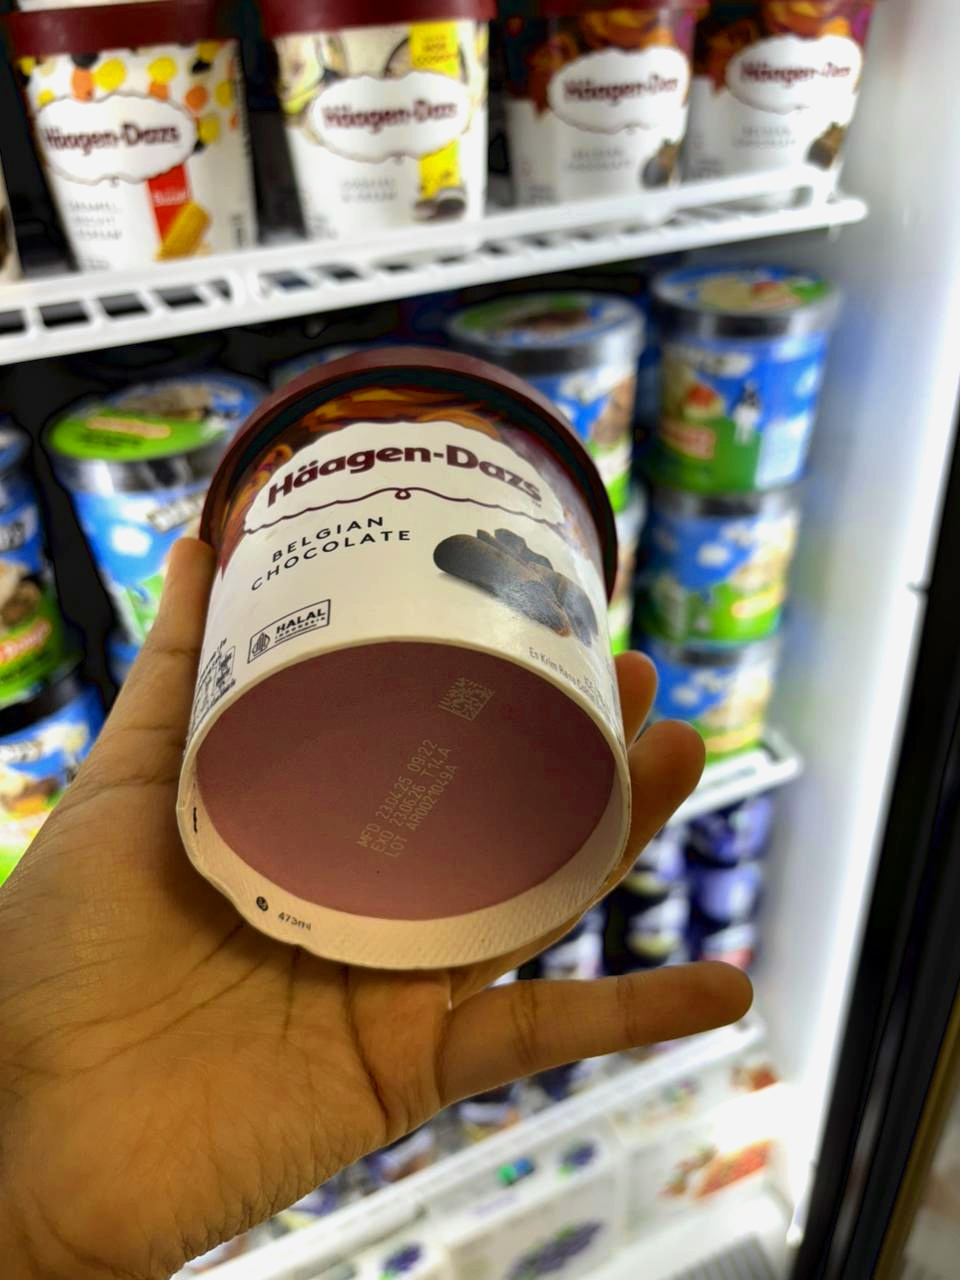Haagen-Dazs IceCream Tub: (166, 337, 656, 1014)
